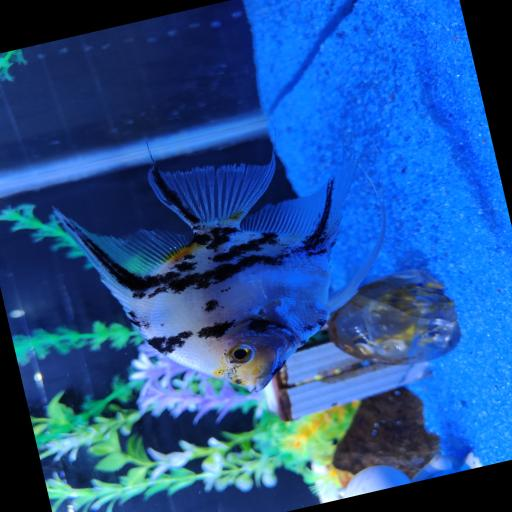Fish: (55, 158, 384, 390)
